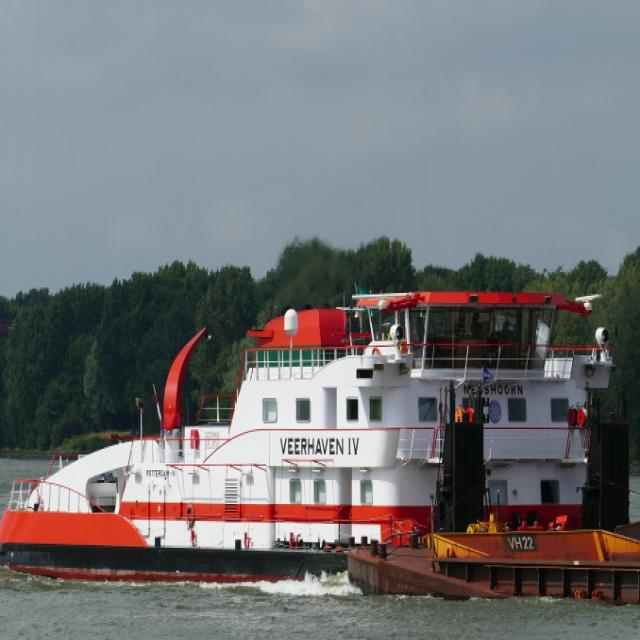tugboat: (1, 274, 638, 600)
